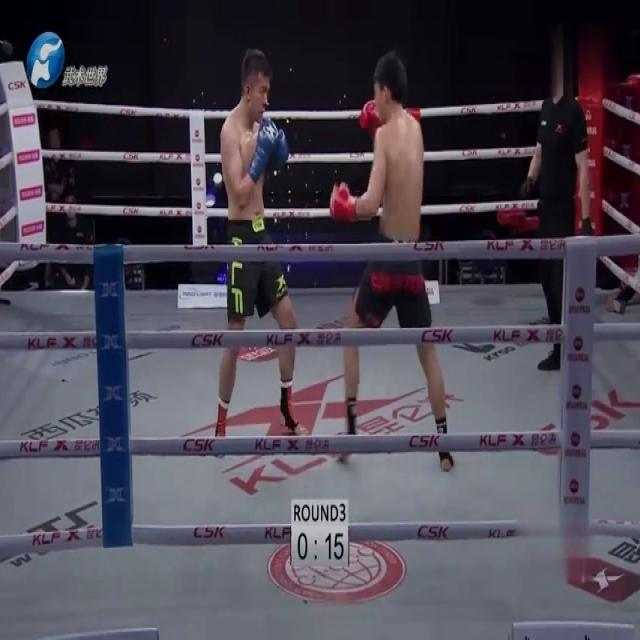fight: (212, 47, 455, 477)
non-fight: (516, 64, 592, 373), (52, 185, 94, 291)
